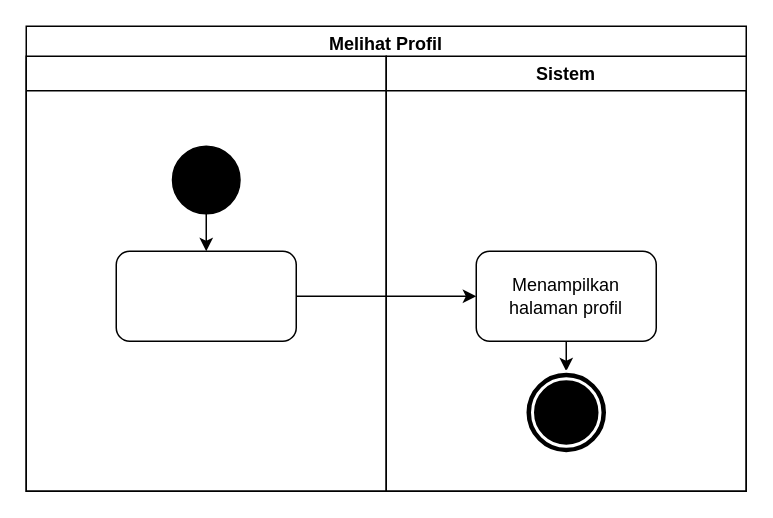
Some shapes in this 773 by 518 pixel diagram are drawn without their labels. The shapes that lost their labels are listed below. From the top down, each one's box as (x1, y1, x2, y2) in pixels, then its label:
(25, 55, 386, 491): Member
(115, 250, 296, 341): Membuka halaman profil
